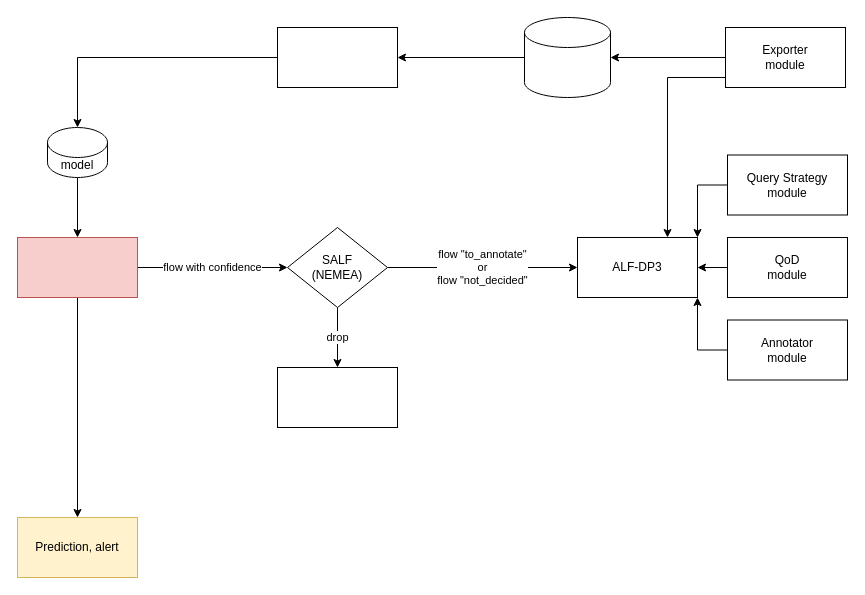
The diagram is 865 pixels wide and 595 high, and some of its shapes have lost their labels. Each missing label, with the box of its shape:
/dev/null: (276, 366, 398, 428)
AL module (i.e. WIF): (16, 236, 138, 298)
dataset.h5: (524, 16, 610, 98)
ML-deployer: (276, 26, 398, 88)
